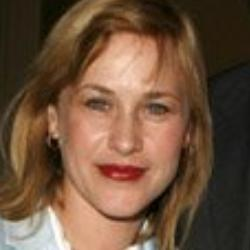face: (2, 2, 217, 239)
